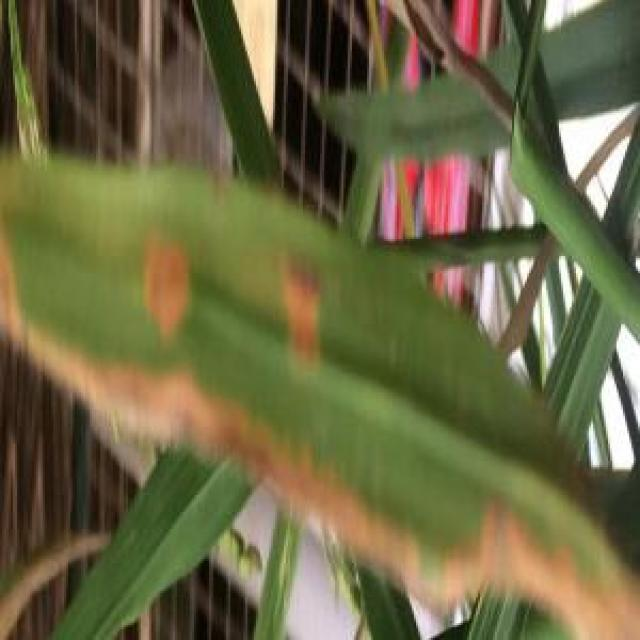Bacterial_Blight: (146, 373, 361, 554), (0, 232, 153, 445), (472, 503, 640, 640), (346, 496, 474, 607), (122, 237, 202, 357), (267, 250, 331, 394)
